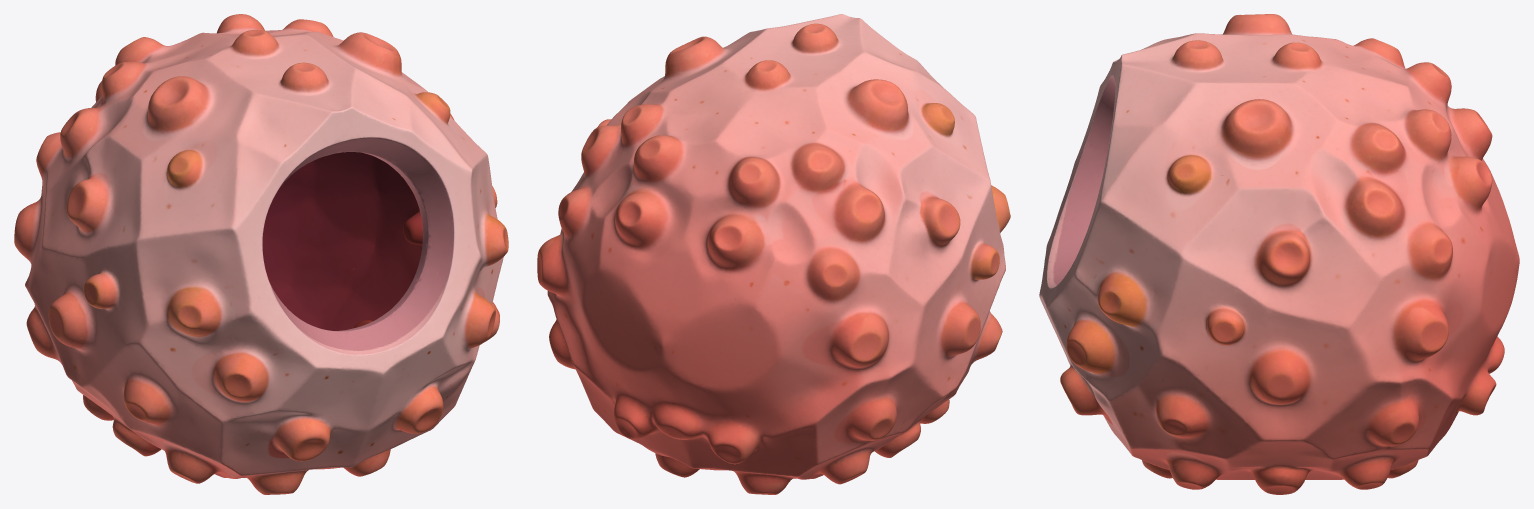
Rendered from recife_esponja_barril.glb.
3 renders of one model, left to right at view 1: azimuth 30°, elevation 25°; view 2: azimuth 150°, elevation 25°; view 3: azimuth 270°, elevation 25°, orthographic. The views are drawn at different scales.
Size of the model in its own units: 1.9 by 1.83 by 1.89.
1 material, 1 textured.
